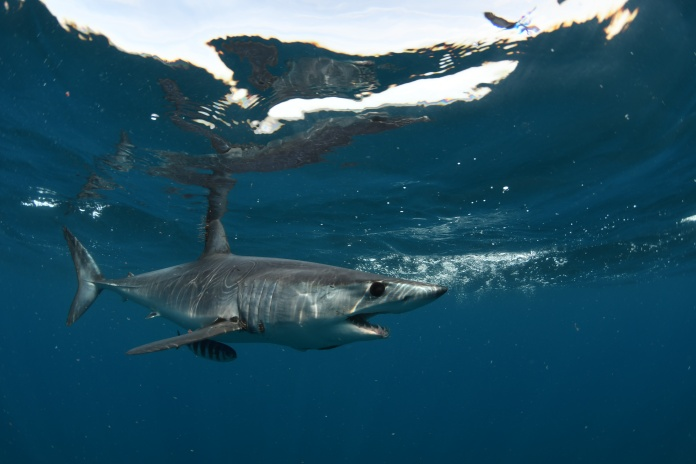Mako: (36, 212, 456, 384)
